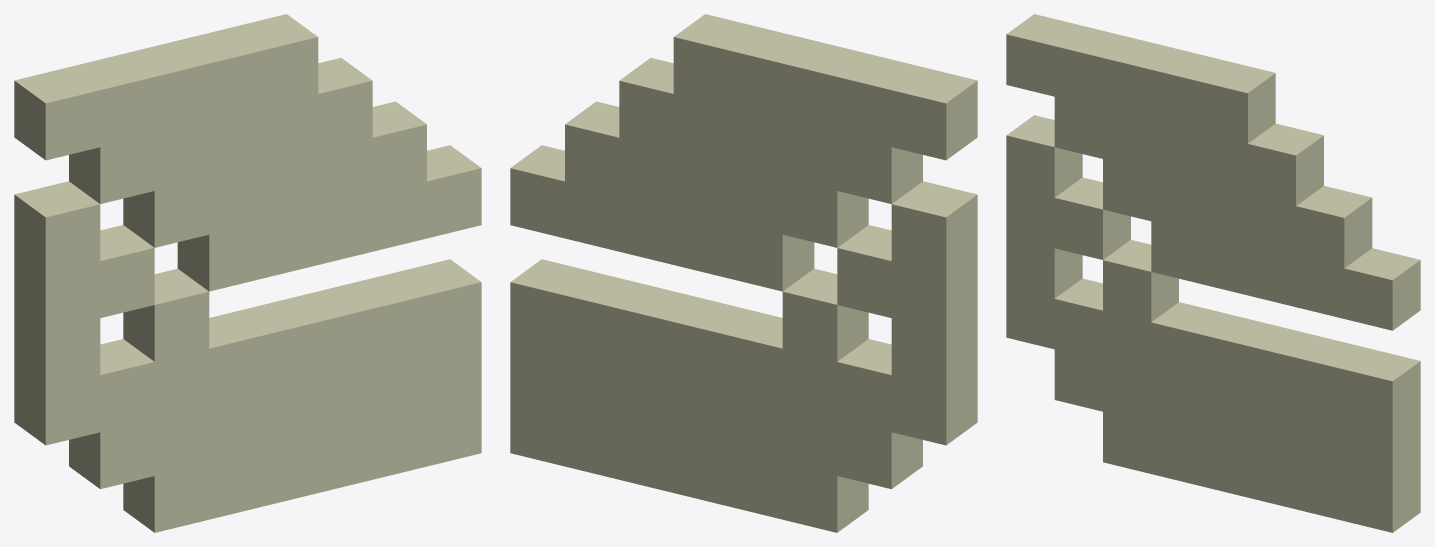
The model's file is Chest-Tan.vox.obj.
3 views of the same model, side by side, from view 1: azimuth 30°, elevation 25°; view 2: azimuth 150°, elevation 25°; view 3: azimuth 330°, elevation 25° (orthographic). The views are drawn at different scales.
Bounding box in the file's own units: 0.8 × 0.8 × 0.1.
1 material, 1 textured.
